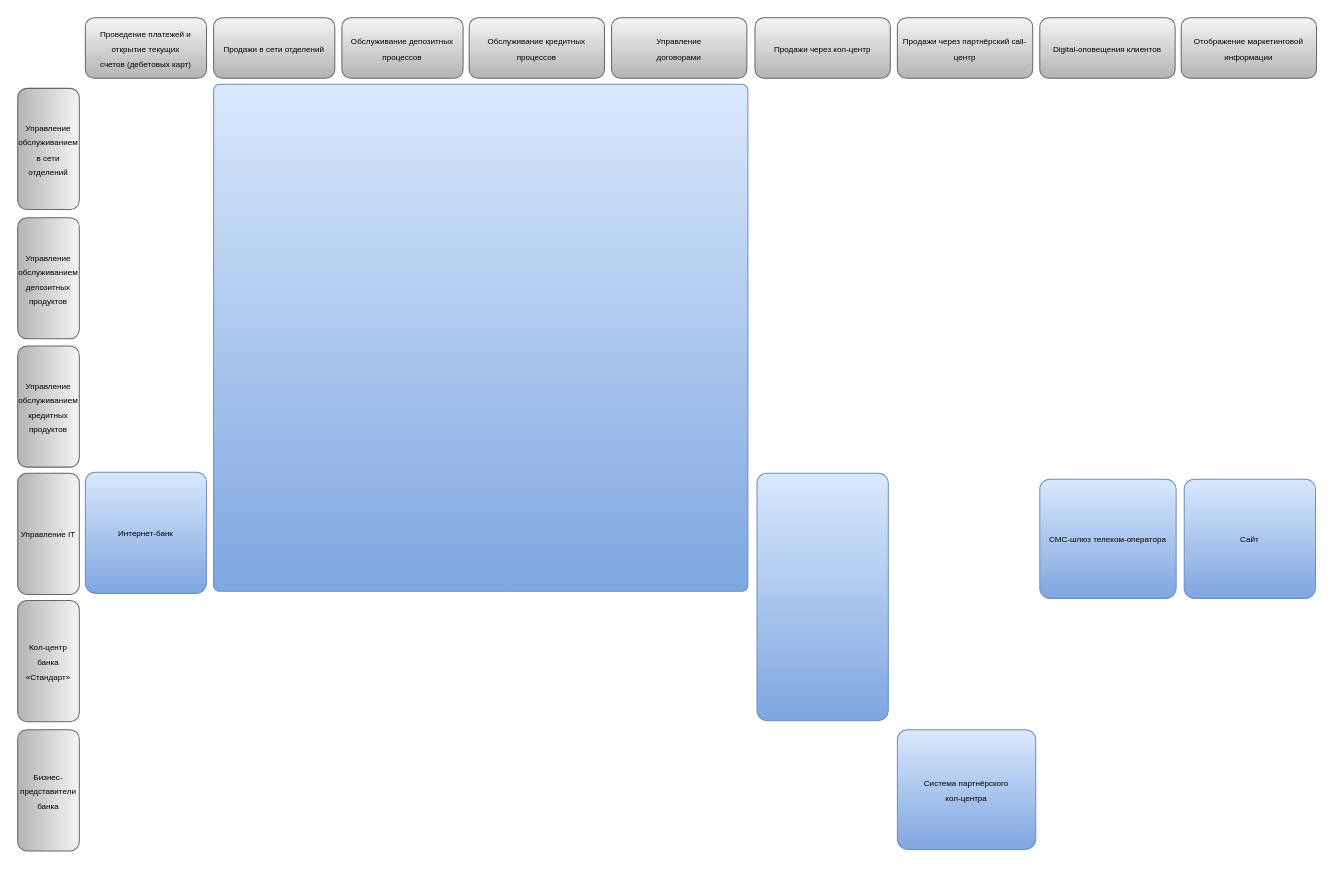
The diagram is 1334 pixels wide and 869 high, and some of its shapes have lost their labels. Each missing label, with the box of its shape:
Автоматизированная банковская система (АБС): (213, 83, 748, 591)
Система кол-центра: (756, 472, 888, 721)
